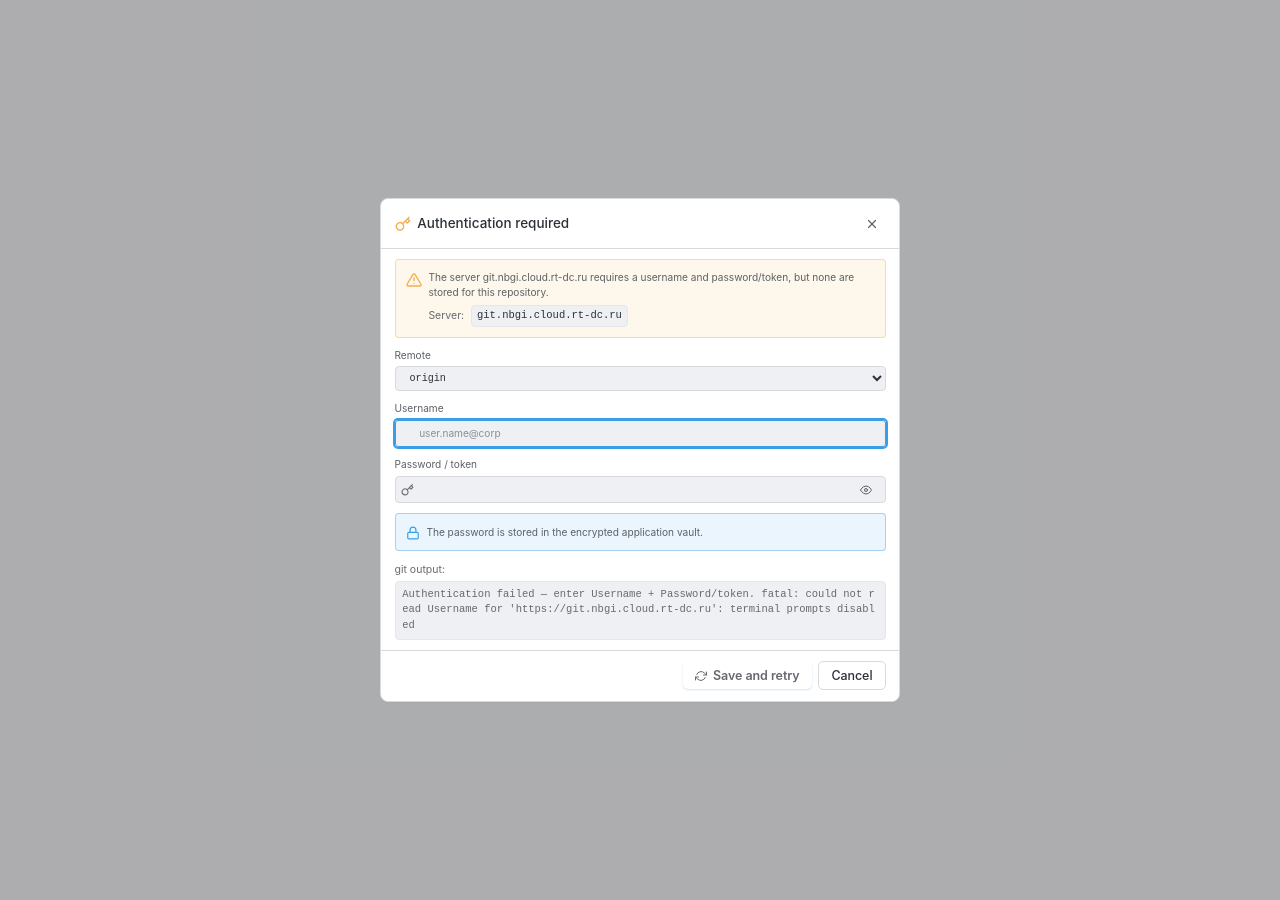
RemoteAuthDialog — «Save and retry» › Save stays disabled until both username and password are filled
The width and height of the screenshot is (1280, 900).
Expected: the button "Save and retry" is disabled, [683,662,812,690]
Type "user" into the field labelled "Username". click: (640, 434)
box: [394,420,886,447]
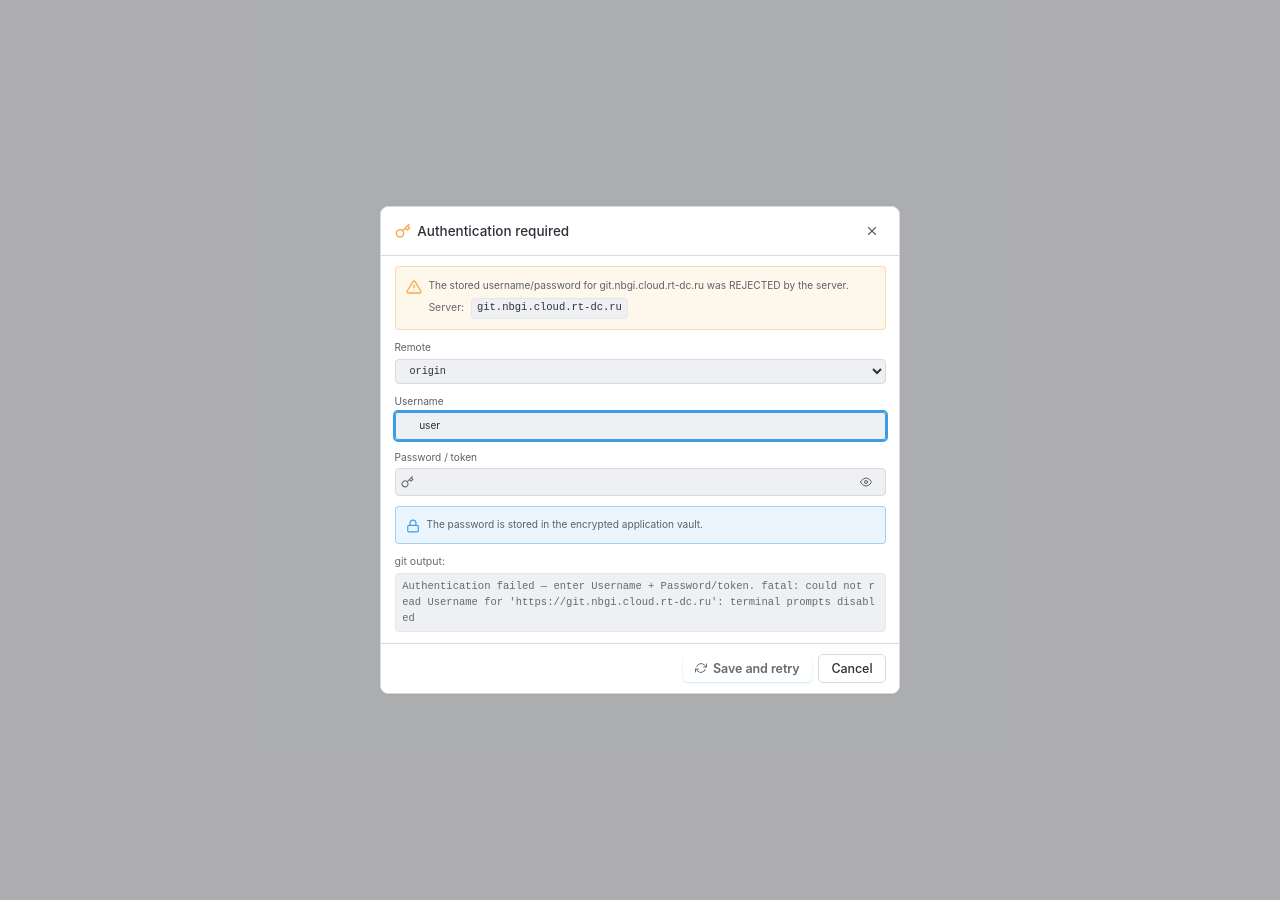
Expected: the button "Save and retry" is disabled, [683,655,812,682]
Type "pass" into the password field labelled "Password / token". click: (640, 482)
box: [394,468,886,496]
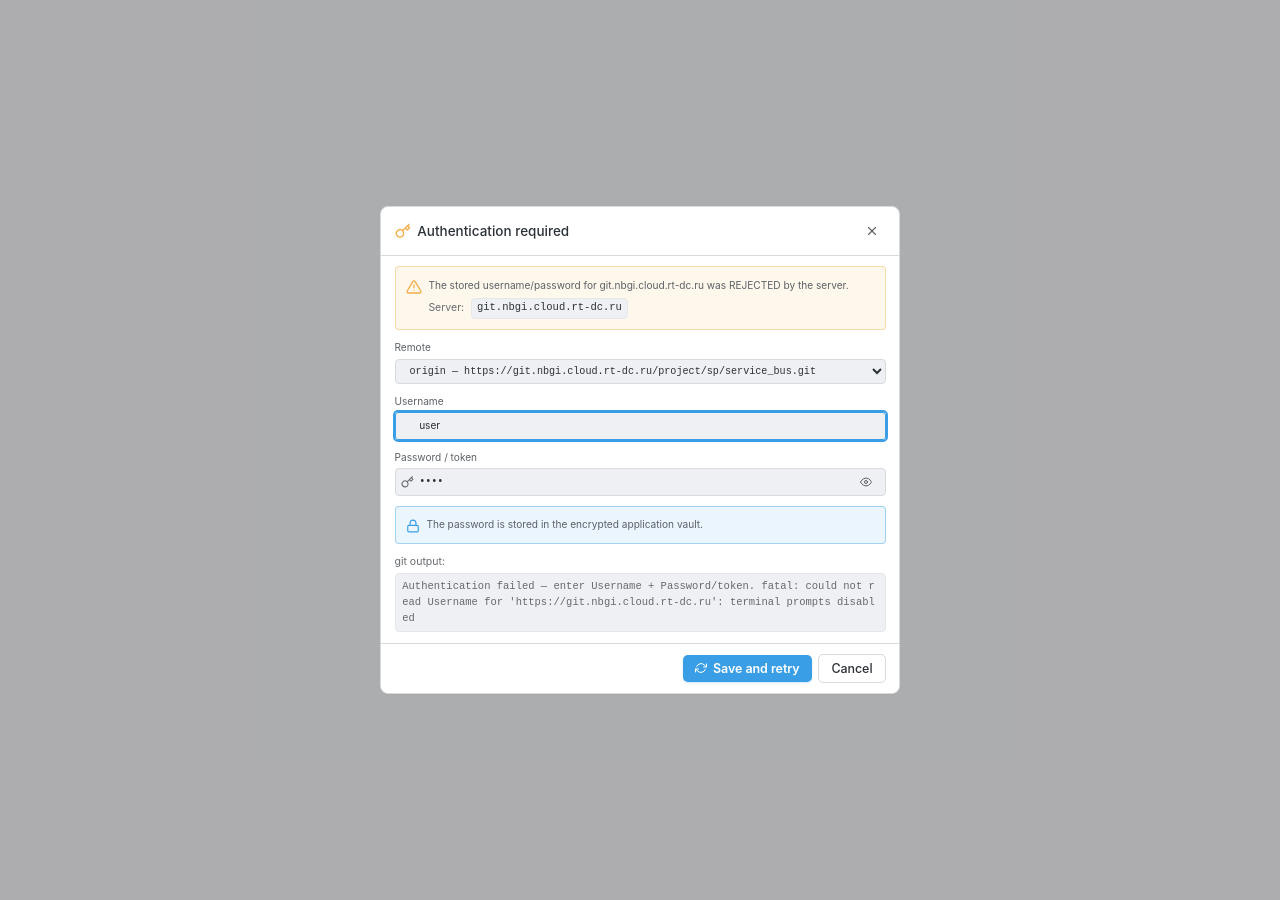
Now the button "Save and retry" is enabled, box [683,655,812,682]
